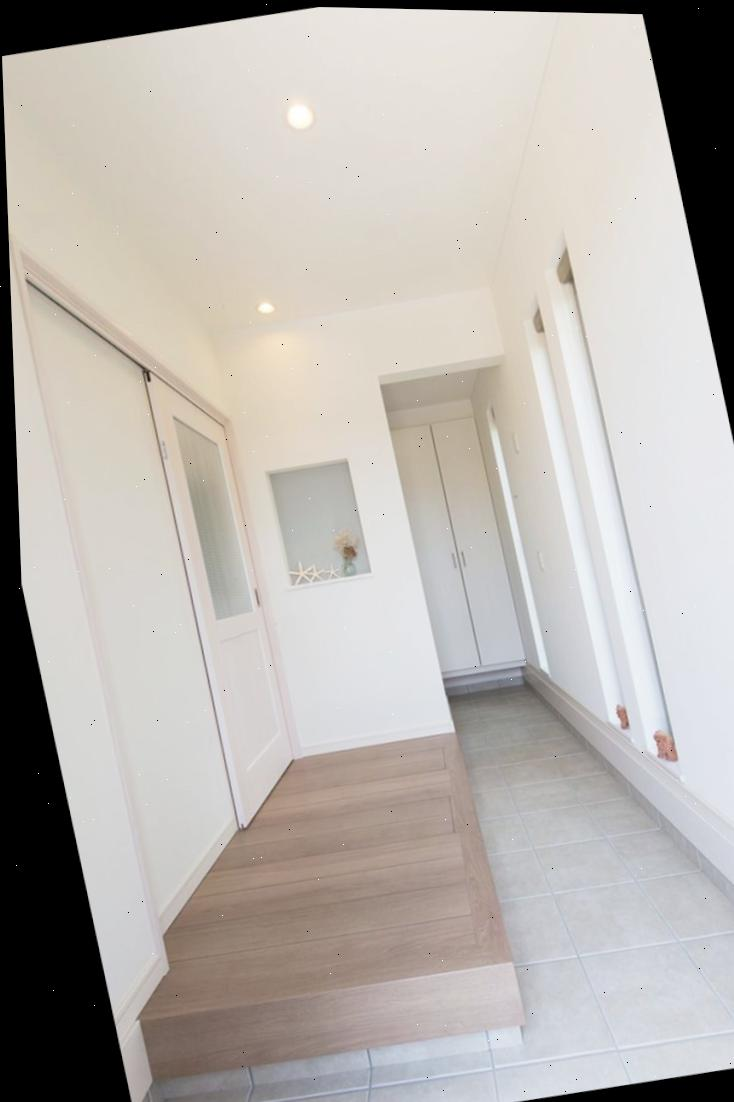floor: (163, 683, 734, 1102)
safe: (136, 732, 512, 1021)
